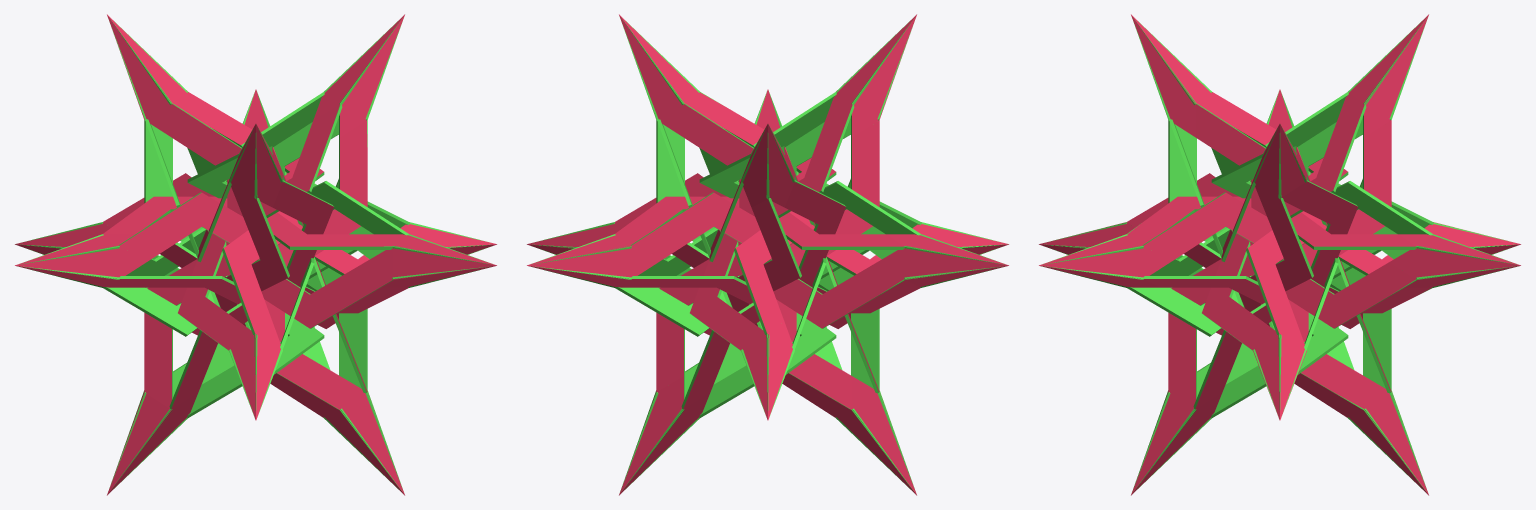
Rendered from PolyknotIcosidodecahedron1.glb.
The picture shows the model from 3 angles, left to right: view 1: azimuth 30°, elevation 25°; view 2: azimuth 150°, elevation 25°; view 3: azimuth 270°, elevation 25°; orthographic projection.
Parts seen in each view (by area): view 1: 3D_ICOSAHEDON_POLYKNOT_1Augmented_Icosidodeca; view 2: 3D_ICOSAHEDON_POLYKNOT_1Augmented_Icosidodeca; view 3: 3D_ICOSAHEDON_POLYKNOT_1Augmented_Icosidodeca.
Part boxes in pixels (<box>): 3D_ICOSAHEDON_POLYKNOT_1Augmented_Icosidodeca: <box>15,14,496,495</box>; 3D_ICOSAHEDON_POLYKNOT_1Augmented_Icosidodeca: <box>527,14,1008,495</box>; 3D_ICOSAHEDON_POLYKNOT_1Augmented_Icosidodeca: <box>1039,14,1520,495</box>.
Size of the model in its own units: 115 by 93.42 by 100.
